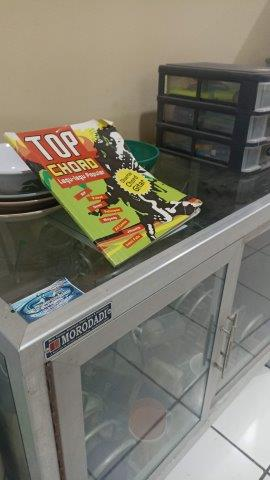kertas: (7, 120, 202, 267)
